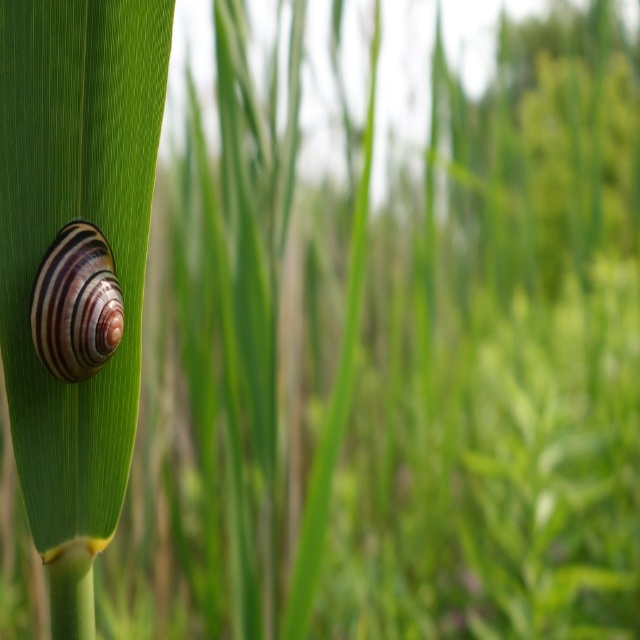Snail: (28, 216, 126, 386)
